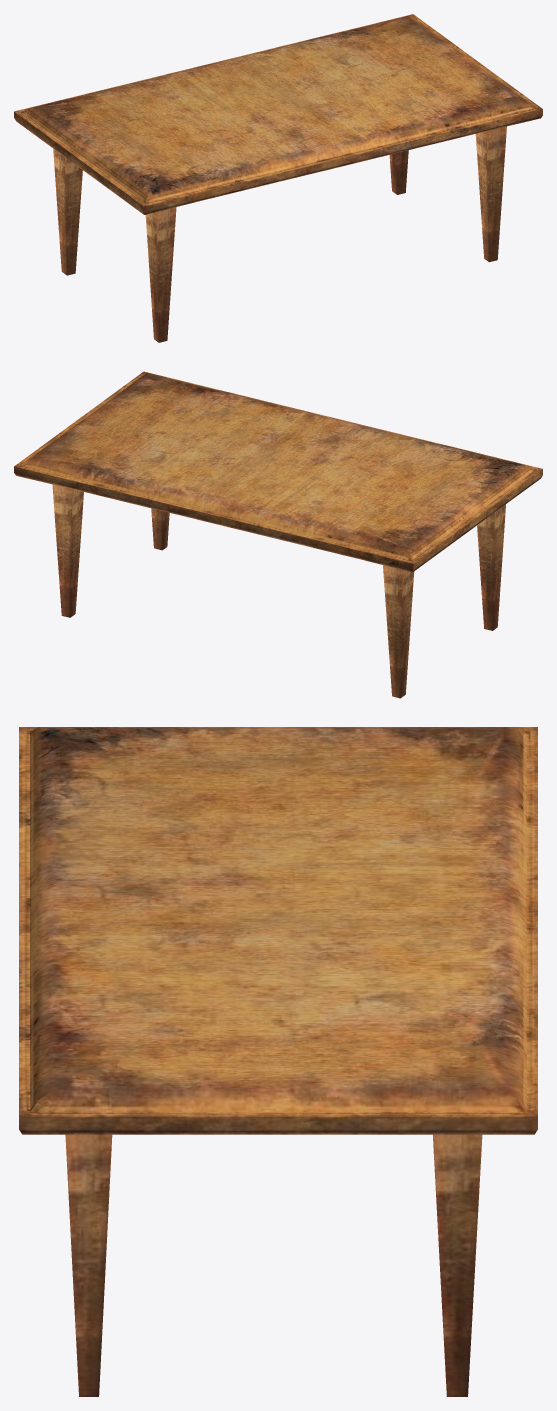
File: esstisch.glb
3 renders of one model, top to bottom at view 1: azimuth 30°, elevation 25°; view 2: azimuth 150°, elevation 25°; view 3: azimuth 270°, elevation 25°, orthographic. The views are drawn at different scales.
Visible parts, largest first — view 1: dining_table; view 2: dining_table; view 3: dining_table.
Part boxes in pixels (bbox=[...]): dining_table: bbox=[14, 14, 542, 342]; dining_table: bbox=[14, 371, 542, 698]; dining_table: bbox=[19, 727, 537, 1396].
Bounding box in the file's own units: 2.05 × 0.7907 × 1.15.
Materials: 1 (1 with a texture image).
